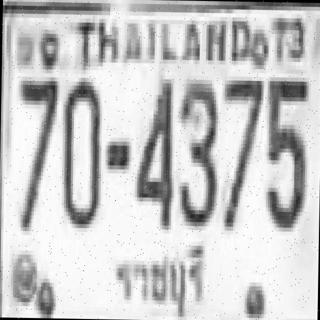N00: (61, 77, 100, 224)
N03: (177, 76, 216, 222)
N04: (134, 75, 173, 225)
N05: (263, 77, 306, 228)
N07: (220, 76, 262, 227), (16, 76, 55, 227)
P52: (108, 240, 209, 320)
